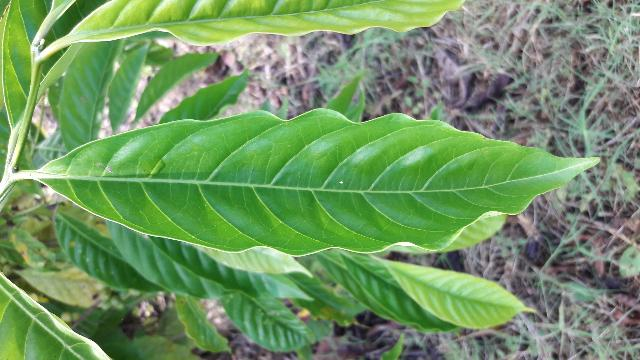healthy: (27, 108, 594, 257)
